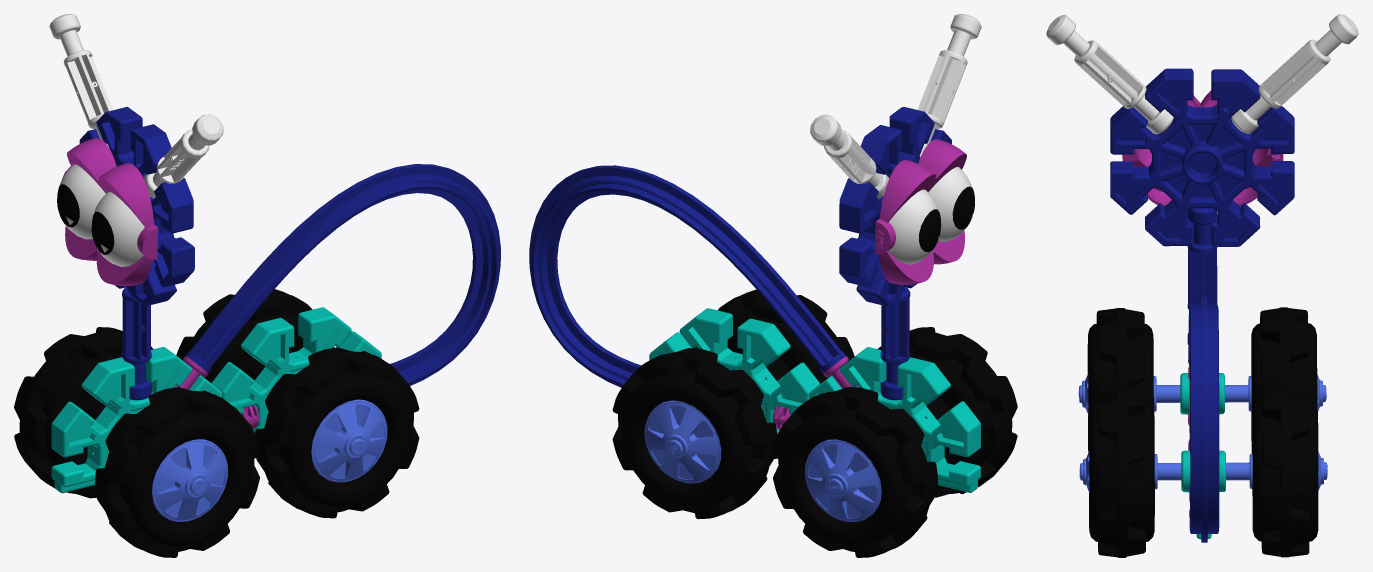
3 renders of one model, left to right at view 1: azimuth 30°, elevation 25°; view 2: azimuth 150°, elevation 25°; view 3: azimuth 270°, elevation 25°, orthographic.
Visible parts, largest first — view 1: Untitled.020, Untitled.026, Untitled.029, Untitled.034, Untitled.036, Untitled.021, Untitled.039, Untitled.013, Untitled.028, Untitled.025, Untitled.019, Untitled.043 (+4 smaller); view 2: Untitled.020, Untitled.034, Untitled.043, Untitled.026, Untitled.036, Untitled.021, Untitled.039, Untitled.013, Untitled.042, Untitled.033, Untitled.019, Untitled.029 (+4 smaller); view 3: Untitled.021, Untitled.043, Untitled.029, Untitled.020, Untitled.034, Untitled.026, Untitled, transform1, Untitled.037, Untitled.013, Untitled.039, Untitled.036 (+1 smaller).
Boxes of the visible parts, x1,y1,x2,y2 form: Untitled.020: (122,164,500,400); Untitled.026: (95,387,259,557); Untitled.029: (255,347,419,518); Untitled.034: (14,327,153,498); Untitled.036: (51,347,222,493); Untitled.021: (79,106,194,306); Untitled.039: (211,307,381,432); Untitled.013: (62,138,158,286); Untitled.028: (311,399,387,482); Untitled.025: (152,439,227,521); Untitled.019: (59,164,144,266); Untitled.043: (176,289,334,458); Untitled.020: (529,165,910,400); Untitled.034: (773,387,937,557); Untitled.043: (612,348,777,519); Untitled.026: (877,327,1017,497); Untitled.036: (809,347,980,492); Untitled.021: (839,107,951,306); Untitled.039: (649,308,820,433); Untitled.013: (875,139,966,284); Untitled.042: (644,400,721,483); Untitled.033: (805,439,881,521); Untitled.019: (888,167,973,264); Untitled.029: (694,289,854,458); Untitled.021: (1110,68,1294,246); Untitled.043: (1252,385,1318,557); Untitled.029: (1088,385,1154,557); Untitled.020: (1187,208,1219,542); Untitled.034: (1251,307,1317,453); Untitled.026: (1087,308,1153,451); Untitled: (1231,14,1358,133); transform1: (1046,14,1173,134); Untitled.037: (1153,376,1252,489); Untitled.013: (1125,90,1283,202); Untitled.039: (1181,392,1225,539); Untitled.036: (1180,315,1224,438).
Size of the model in its own units: 1.72 by 1.69 by 1.05.
